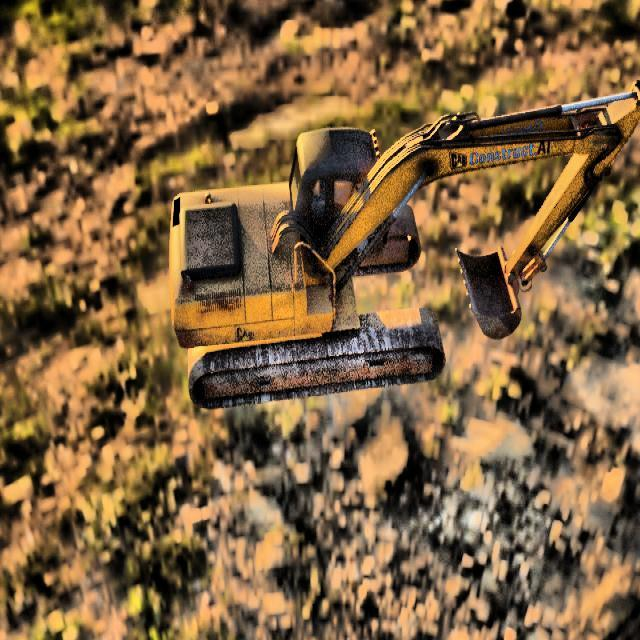excavator: (169, 78, 640, 410)
